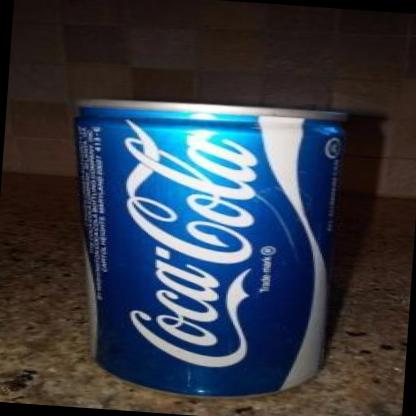alumunium_can: (46, 84, 360, 408)
